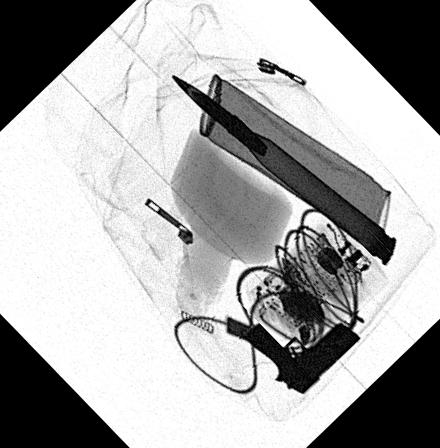Bullet: (170, 74, 396, 265)
Gun: (240, 318, 361, 396)
